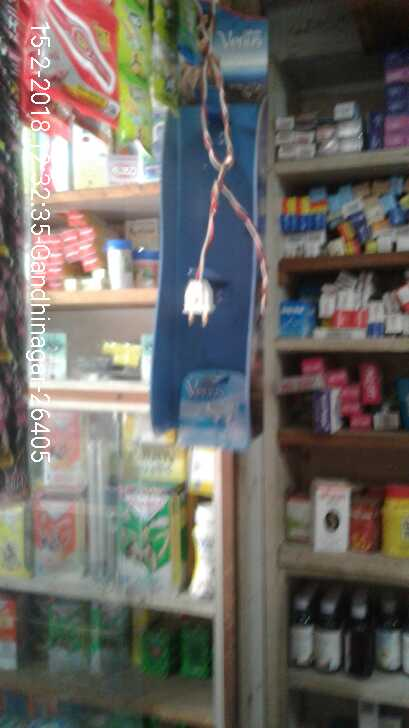venus: (174, 362, 253, 453)
